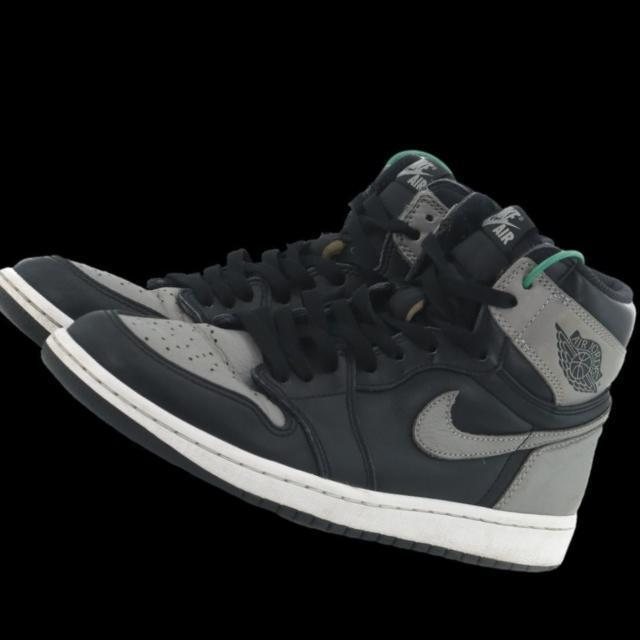nike original jordan 1: (20, 54, 640, 631), (0, 8, 516, 498)
